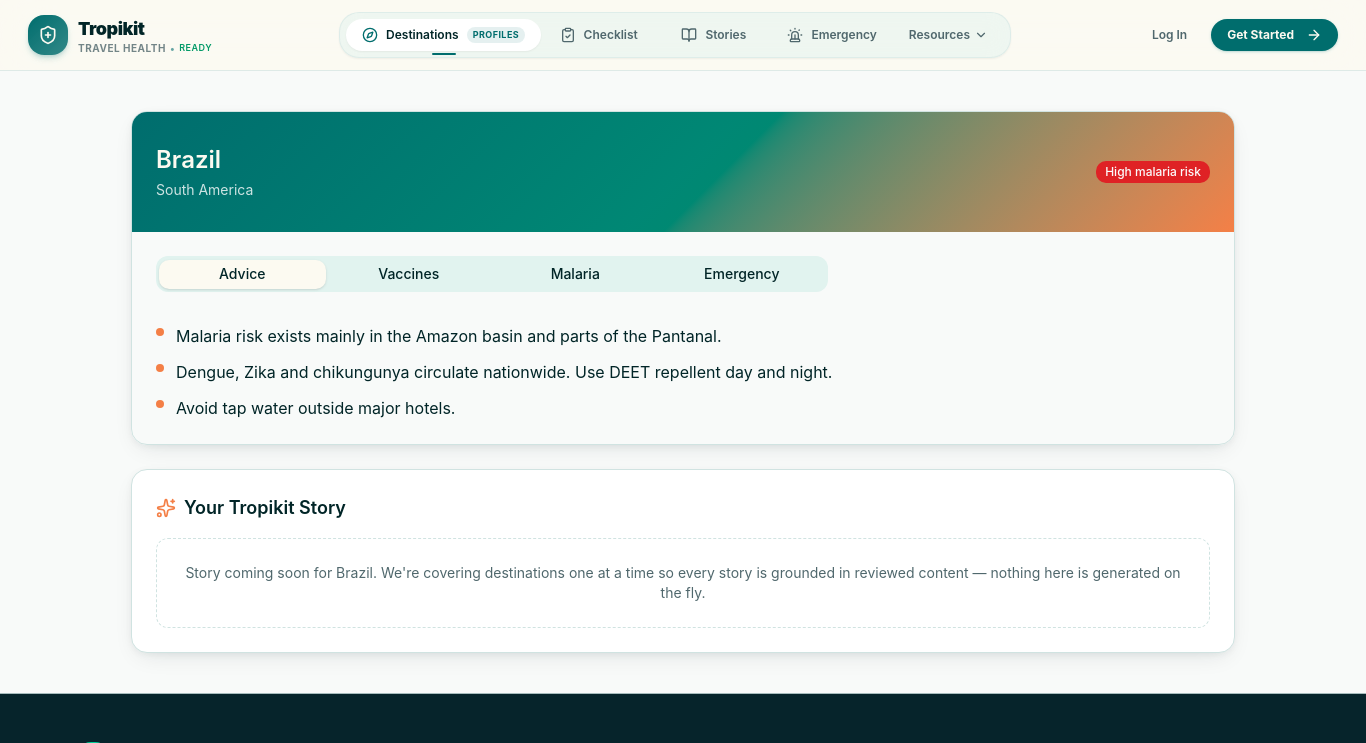
Product Owner walkthrough: first-time traveler using Tropikit › Q4: malaria prevention answered directly with a real regional caveat
This screenshot has width=1366, height=743.
Expected: the heading "Brazil" is shown, [156,145,221,174]
Click the tab "Malaria": (575, 274) [492,260,658,288]
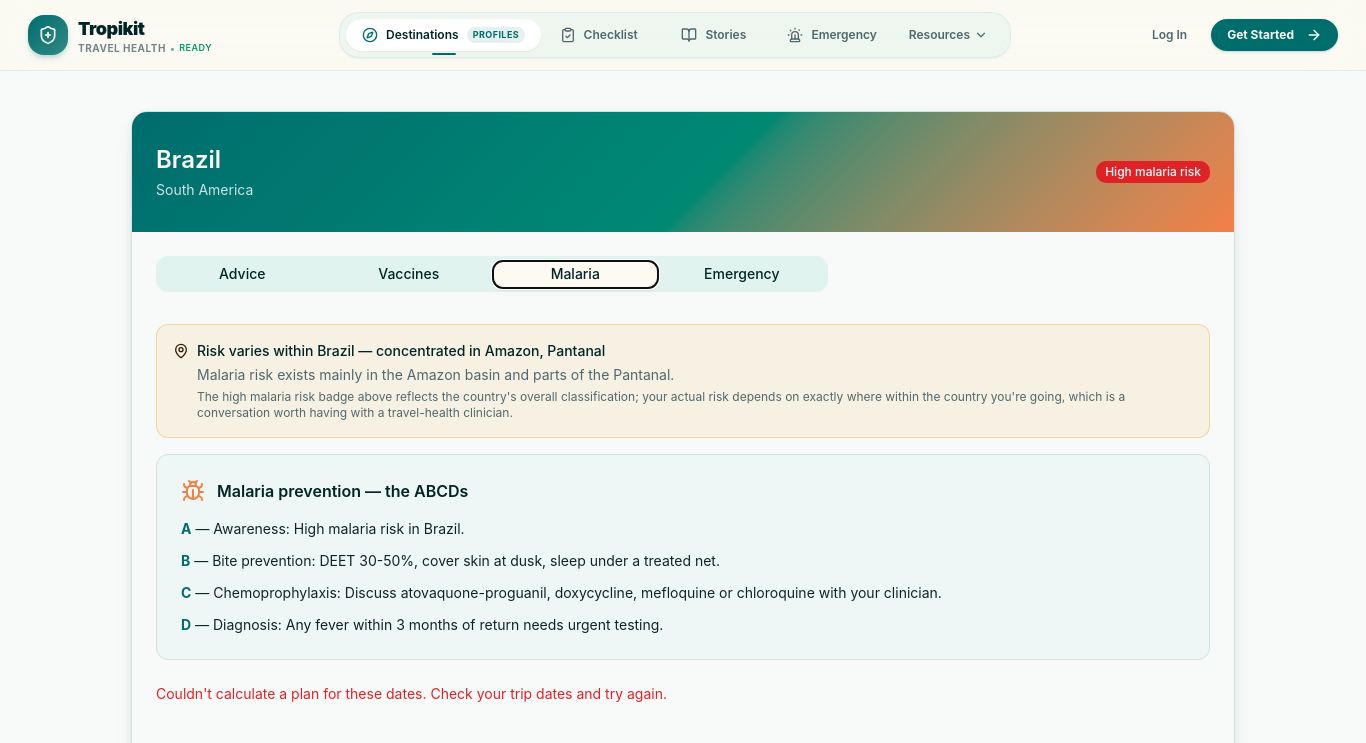
Expected: the heading "Malaria prevention — the ABCDs" is shown, [217,479,468,503]
Expected: the text "Risk varies within Brazil — concentrated in Amazon, Pantanal" is shown, [197,342,605,359]
